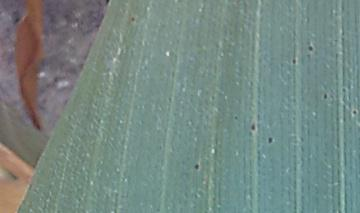tarspot: (126, 13, 141, 25), (321, 87, 331, 104), (264, 133, 276, 147), (347, 106, 360, 118), (249, 120, 259, 134), (288, 55, 299, 67), (306, 42, 316, 55), (192, 160, 202, 172), (339, 84, 349, 96), (231, 113, 239, 122)
